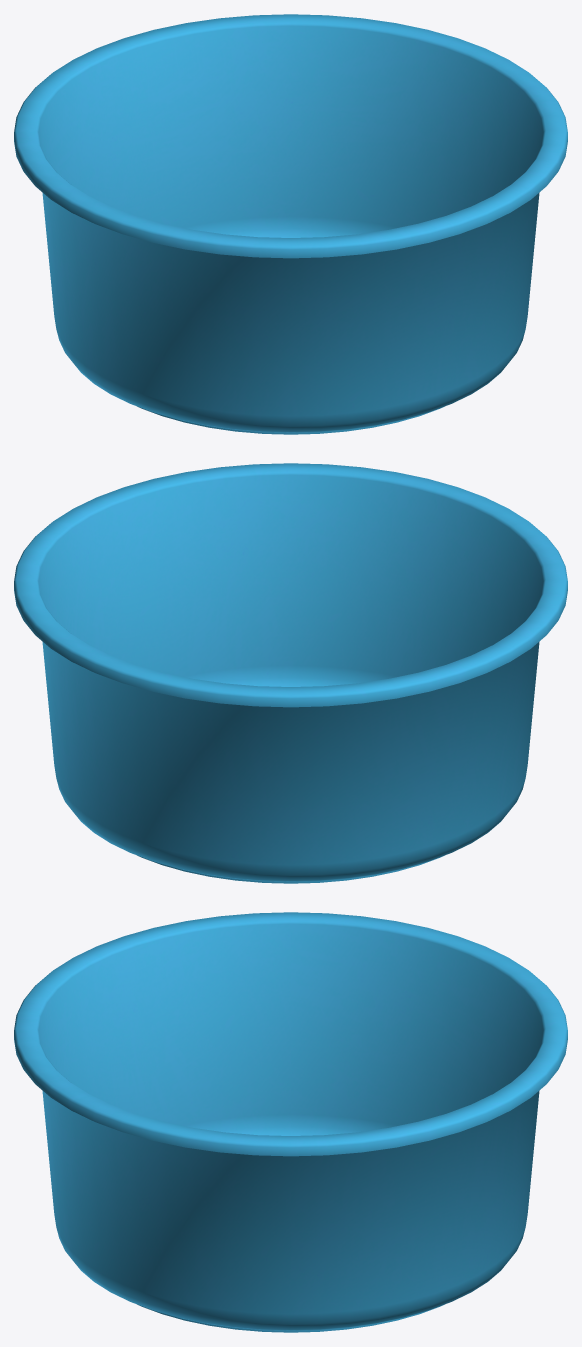
The picture shows the model from 3 angles, top to bottom: view 1: azimuth 30°, elevation 25°; view 2: azimuth 150°, elevation 25°; view 3: azimuth 270°, elevation 25°; orthographic projection.
Parts seen in each view (by area): view 1: Plastic Wash Basin_PlasticWashBasin_0; view 2: Plastic Wash Basin_PlasticWashBasin_0; view 3: Plastic Wash Basin_PlasticWashBasin_0.
Boxes of the visible parts, left/top/right/bottom form: Plastic Wash Basin_PlasticWashBasin_0: left=14, top=14, right=567, bottom=434; Plastic Wash Basin_PlasticWashBasin_0: left=14, top=463, right=567, bottom=883; Plastic Wash Basin_PlasticWashBasin_0: left=14, top=912, right=567, bottom=1332.
Bounding box in the file's own units: 0.2742 × 0.1175 × 0.2742.
Materials: 1 (1 with a texture image).
